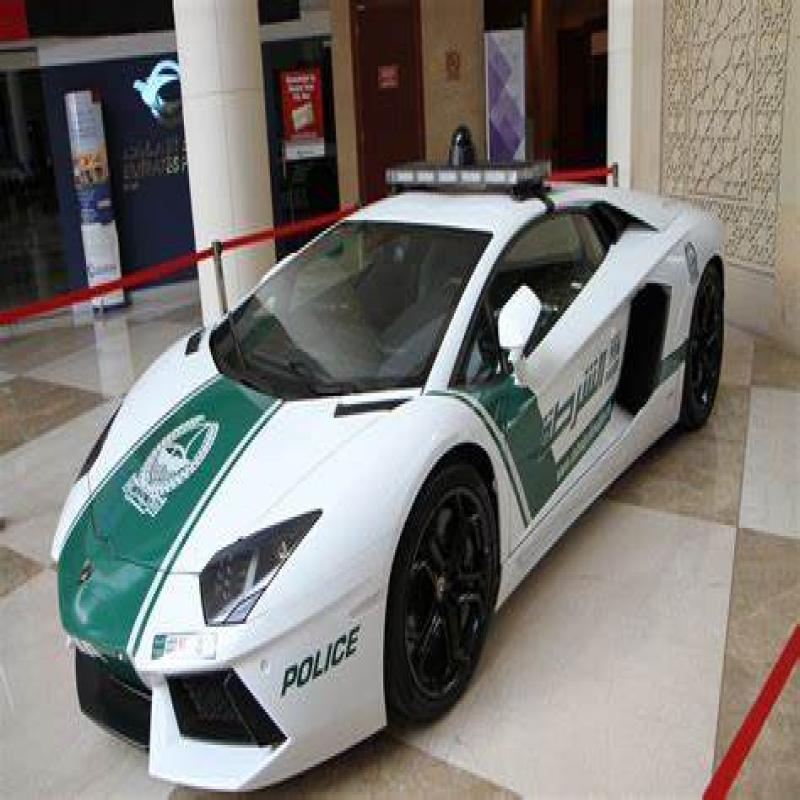AmbulanceSiren: (382, 127, 536, 206)
